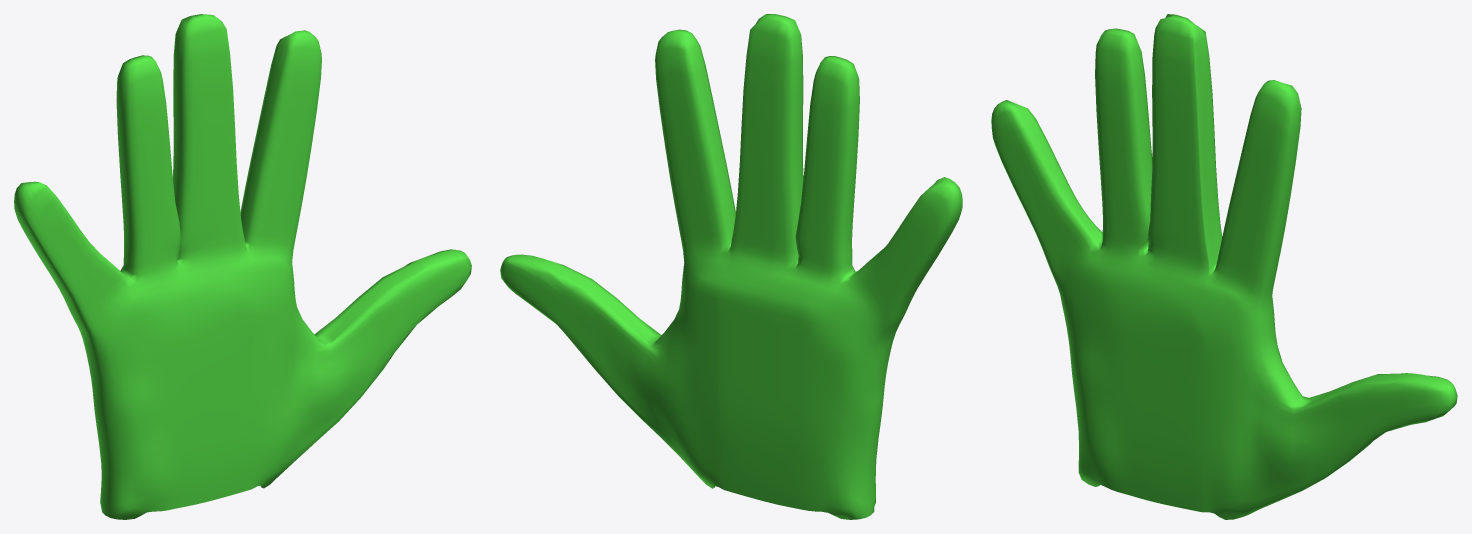
The model's file is hand2green.glb.
3 renders of one model, left to right at view 1: azimuth 30°, elevation 25°; view 2: azimuth 150°, elevation 25°; view 3: azimuth 330°, elevation 25°, orthographic.
Visible parts, largest first — view 1: Cube; view 2: Cube; view 3: Cube.
Part boxes in pixels (bbox=[...]): Cube: bbox=[14, 14, 471, 519]; Cube: bbox=[500, 14, 962, 519]; Cube: bbox=[991, 14, 1457, 519].
Size of the model in its own units: 6.77 by 6.82 by 0.9034.
